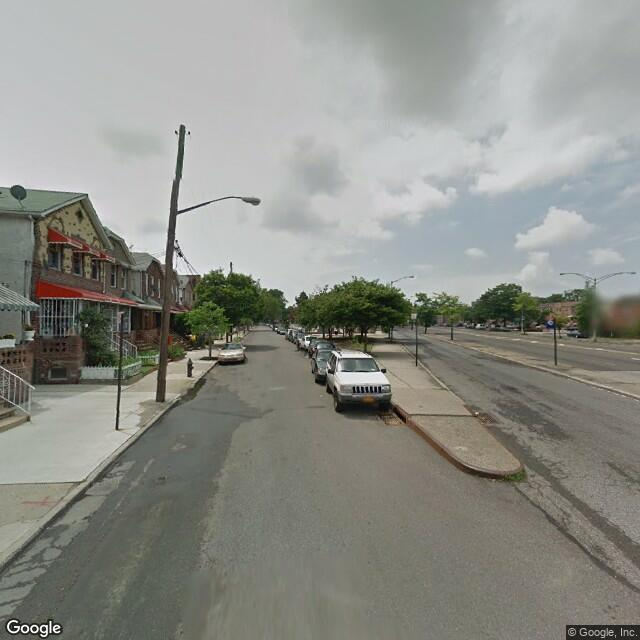litter: (474, 408, 480, 417)
